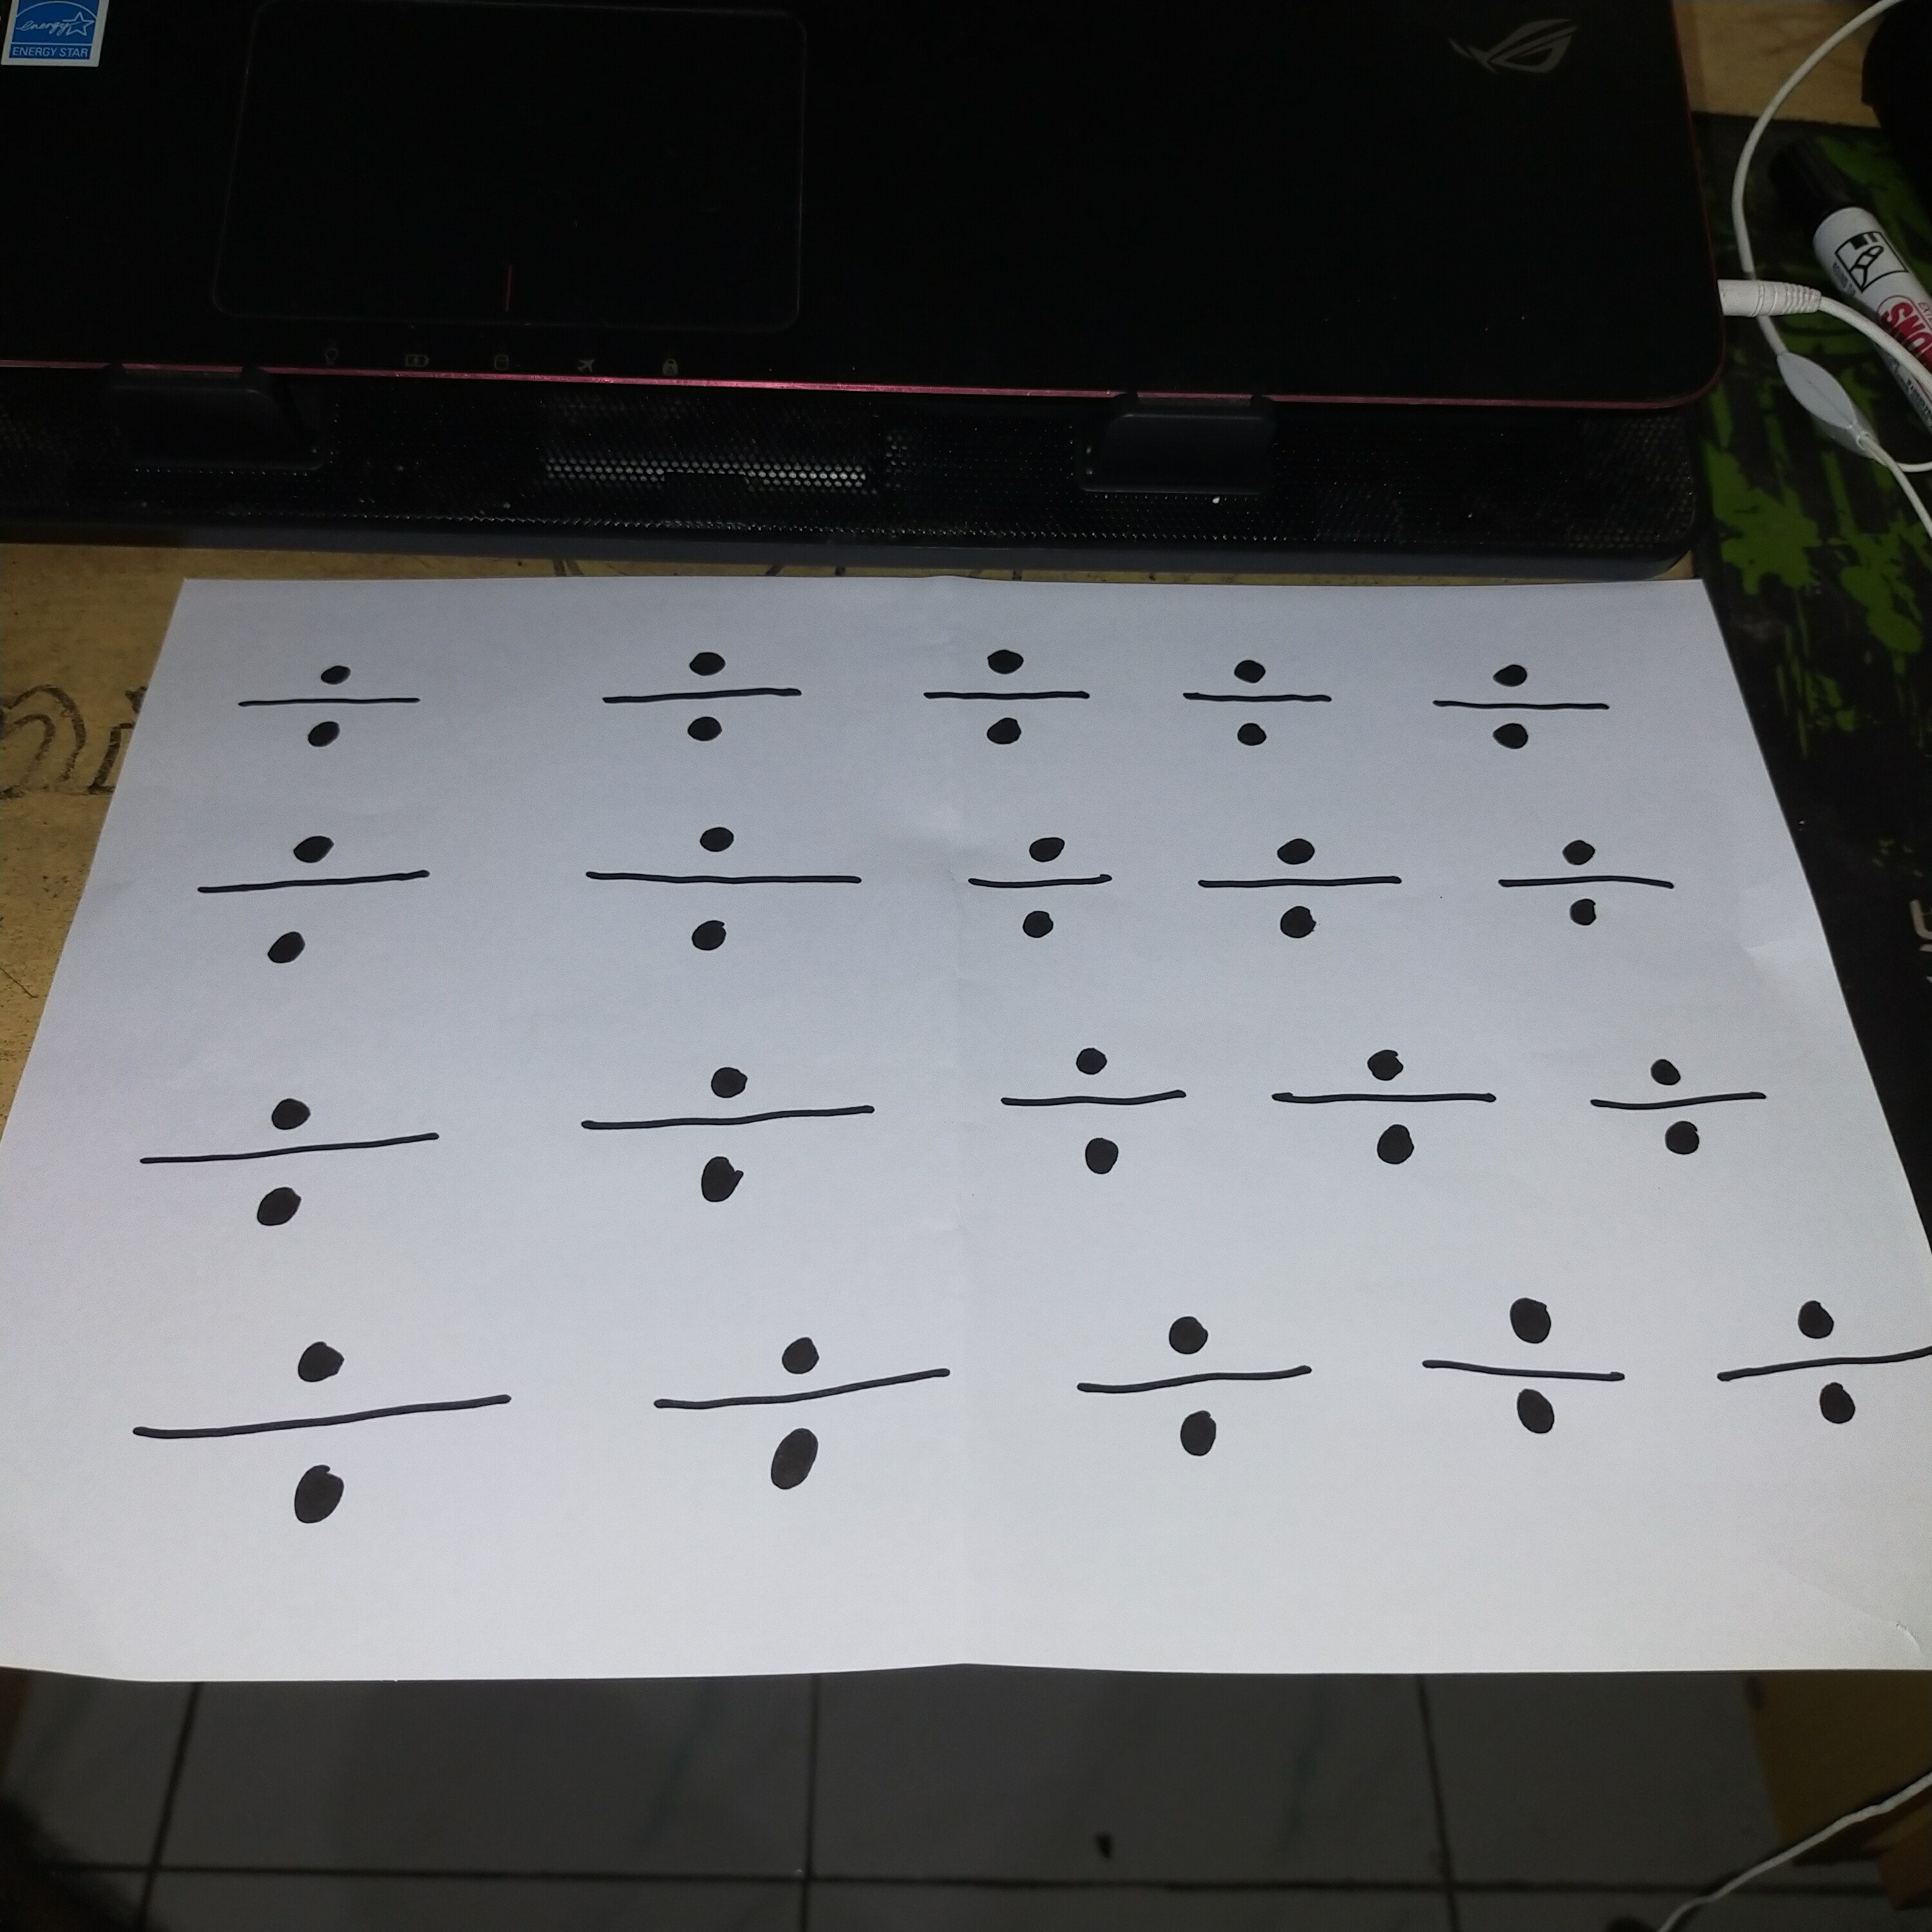div: (105, 1325, 536, 1547), (639, 1327, 981, 1500), (558, 1056, 919, 1215), (120, 1090, 472, 1242), (567, 813, 882, 960), (1063, 1301, 1331, 1469), (1406, 1282, 1639, 1459), (187, 821, 448, 973), (1266, 1039, 1522, 1178), (1698, 1285, 1932, 1435), (993, 1036, 1206, 1184), (1184, 833, 1426, 954), (579, 639, 827, 755), (232, 649, 439, 776), (1488, 825, 1701, 946), (1569, 1047, 1795, 1162), (913, 634, 1108, 761), (1418, 657, 1633, 770), (952, 829, 1130, 946), (1175, 655, 1350, 759)
